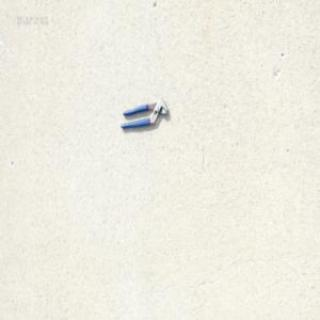Pliertrack_idkeyframe: (119, 97, 169, 130)
